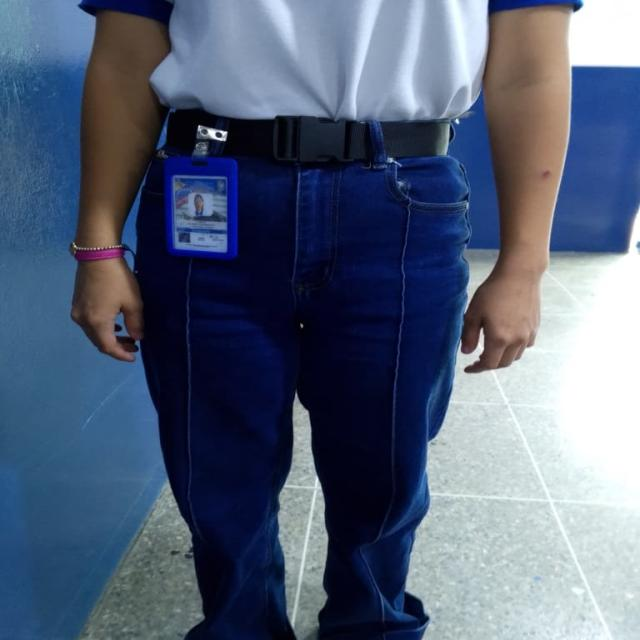carnet: (173, 175, 228, 252)
pantalon_oscuro: (132, 154, 471, 638)
